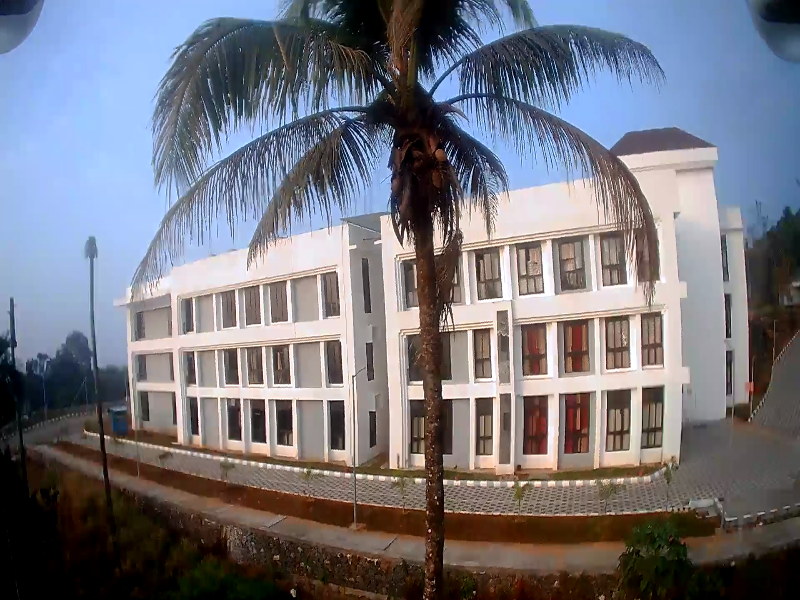coconut: (435, 147, 450, 165)
